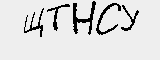Н: (69, 1, 95, 37)
С: (94, 1, 122, 36)
Т: (44, 1, 71, 31)
У: (119, 2, 140, 32)
Щ: (21, 5, 44, 36)
